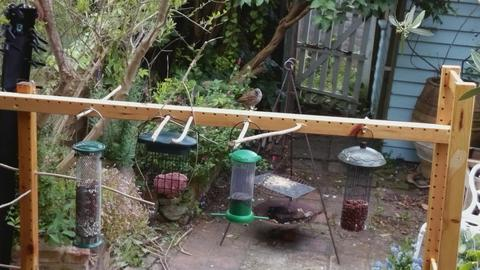dunnock: (230, 88, 262, 111)
